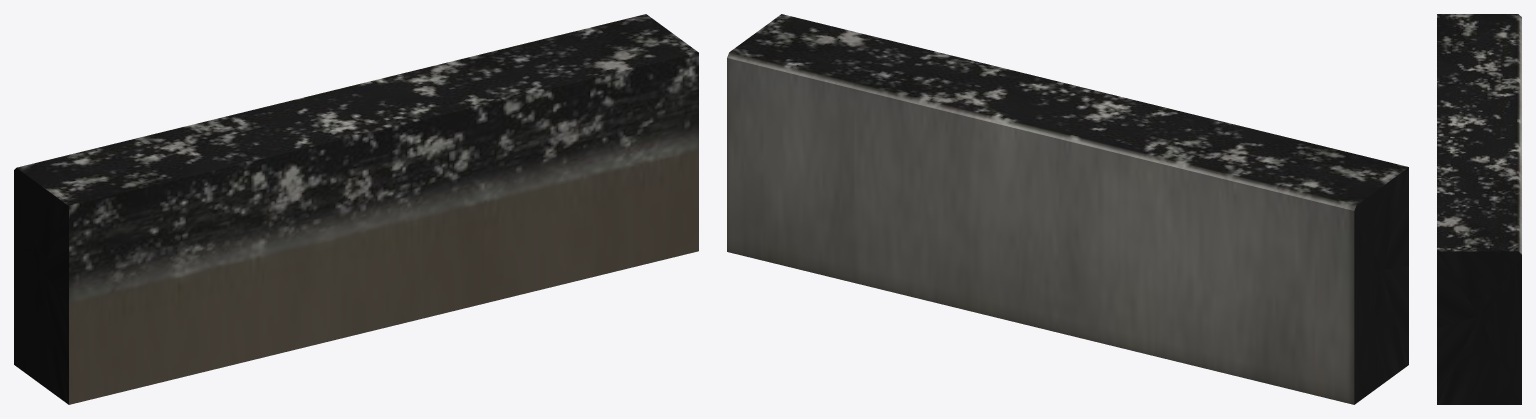
The model's file is curb_straight_black_lod2_web.glb.
3 views of the same model, side by side, from view 1: azimuth 30°, elevation 25°; view 2: azimuth 150°, elevation 25°; view 3: azimuth 270°, elevation 25° (orthographic). The views are drawn at different scales.
Visible parts, largest first — view 1: curb_straight_black_Mesh; view 2: curb_straight_black_Mesh; view 3: curb_straight_black_Mesh.
Boxes of the visible parts, x1,y1,x2,y2 form: curb_straight_black_Mesh: [14, 14, 698, 404]; curb_straight_black_Mesh: [727, 14, 1408, 404]; curb_straight_black_Mesh: [1437, 14, 1521, 404].
Size of the model in its own units: 0.995 by 0.3 by 0.15.
1 material, 1 textured.
